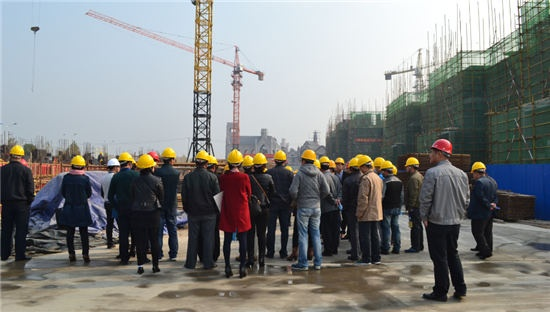red: (426, 138, 453, 166), (147, 151, 159, 167)
white: (106, 156, 120, 173)
yellow: (225, 148, 243, 170), (135, 154, 153, 173), (68, 154, 86, 173), (251, 151, 268, 171), (470, 159, 486, 179), (403, 156, 420, 174), (300, 148, 316, 167), (8, 144, 24, 162), (357, 153, 372, 172), (193, 149, 208, 168), (241, 154, 255, 173), (379, 160, 394, 176), (117, 152, 132, 168), (273, 149, 287, 166), (161, 147, 175, 164), (205, 155, 218, 172), (347, 156, 358, 172), (372, 156, 384, 170), (320, 156, 330, 172), (334, 157, 344, 170)
